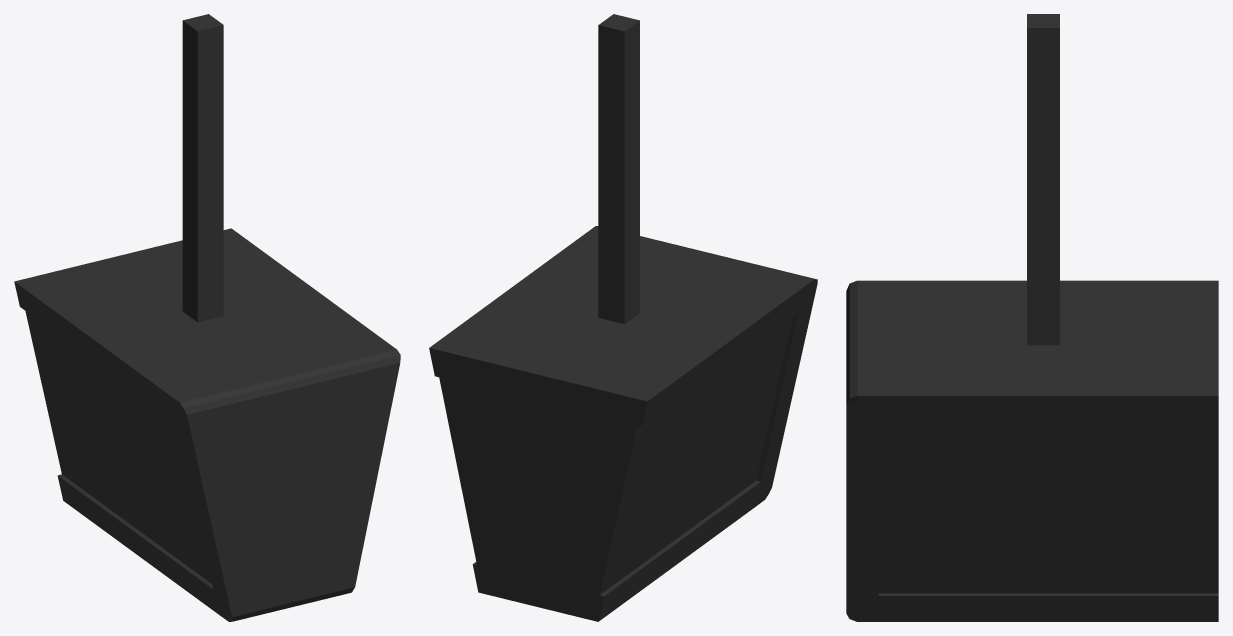
Rendered from nyc_subway_lcd_pids.obj.
3 views of the same model, side by side, from view 1: azimuth 30°, elevation 25°; view 2: azimuth 150°, elevation 25°; view 3: azimuth 270°, elevation 25° (orthographic). The views are drawn at different scales.
Visible parts, largest first — view 1: main, pole; view 2: main, pole; view 3: main, pole.
Part boxes in pixels (x1,y1,x2,y2): main: [14, 228, 400, 621]; pole: [182, 14, 223, 322]; main: [429, 226, 817, 621]; pole: [598, 14, 639, 324]; main: [846, 280, 1218, 621]; pole: [1027, 14, 1059, 345].
Bounding box in the file's own units: 0.7799 × 1.79 × 1.06.
Materials: 1 (1 with a texture image).
